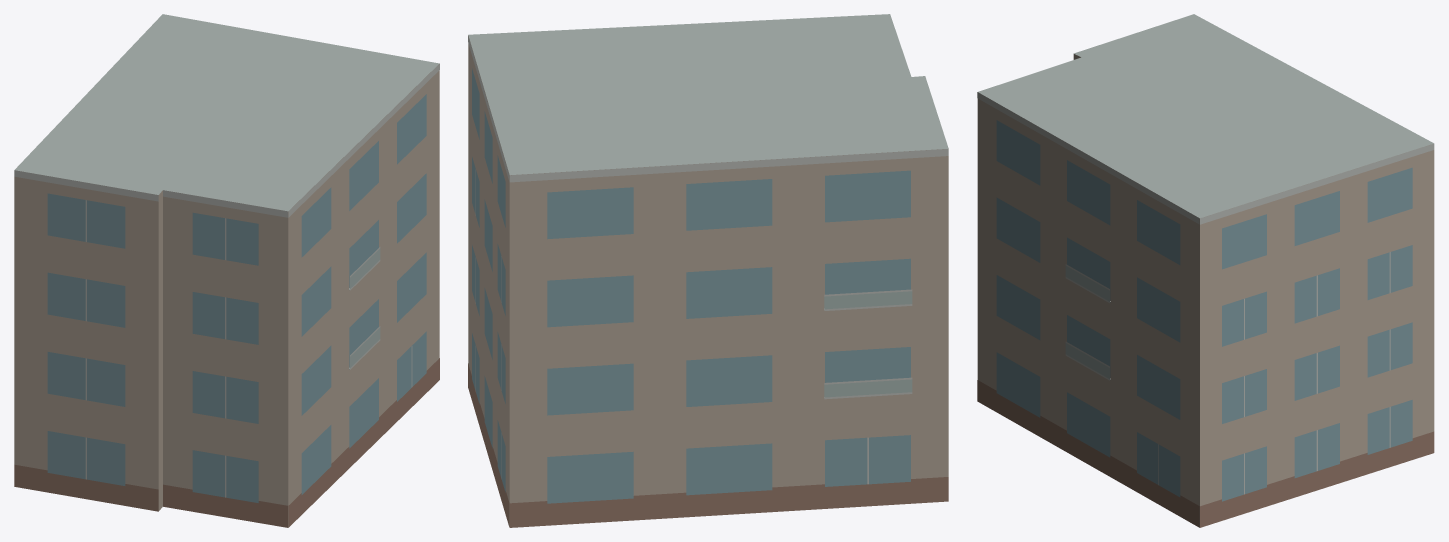
The model's file is survey-upis-32728457.glb.
3 views of the same model, side by side, from view 1: azimuth 30°, elevation 25°; view 2: azimuth 150°, elevation 25°; view 3: azimuth 270°, elevation 25° (orthographic). The views are drawn at different scales.
Parts seen in each view (by area): view 1: survey-upis-32728457.tmp; view 2: survey-upis-32728457.tmp; view 3: survey-upis-32728457.tmp.
Part boxes in pixels (x1=…): survey-upis-32728457.tmp: x1=14, y1=14, x2=439, y2=527; survey-upis-32728457.tmp: x1=468, y1=14, x2=948, y2=527; survey-upis-32728457.tmp: x1=977, y1=14, x2=1434, y2=527.
Bounding box in the file's own units: 16.79 × 11.85 × 15.86.
